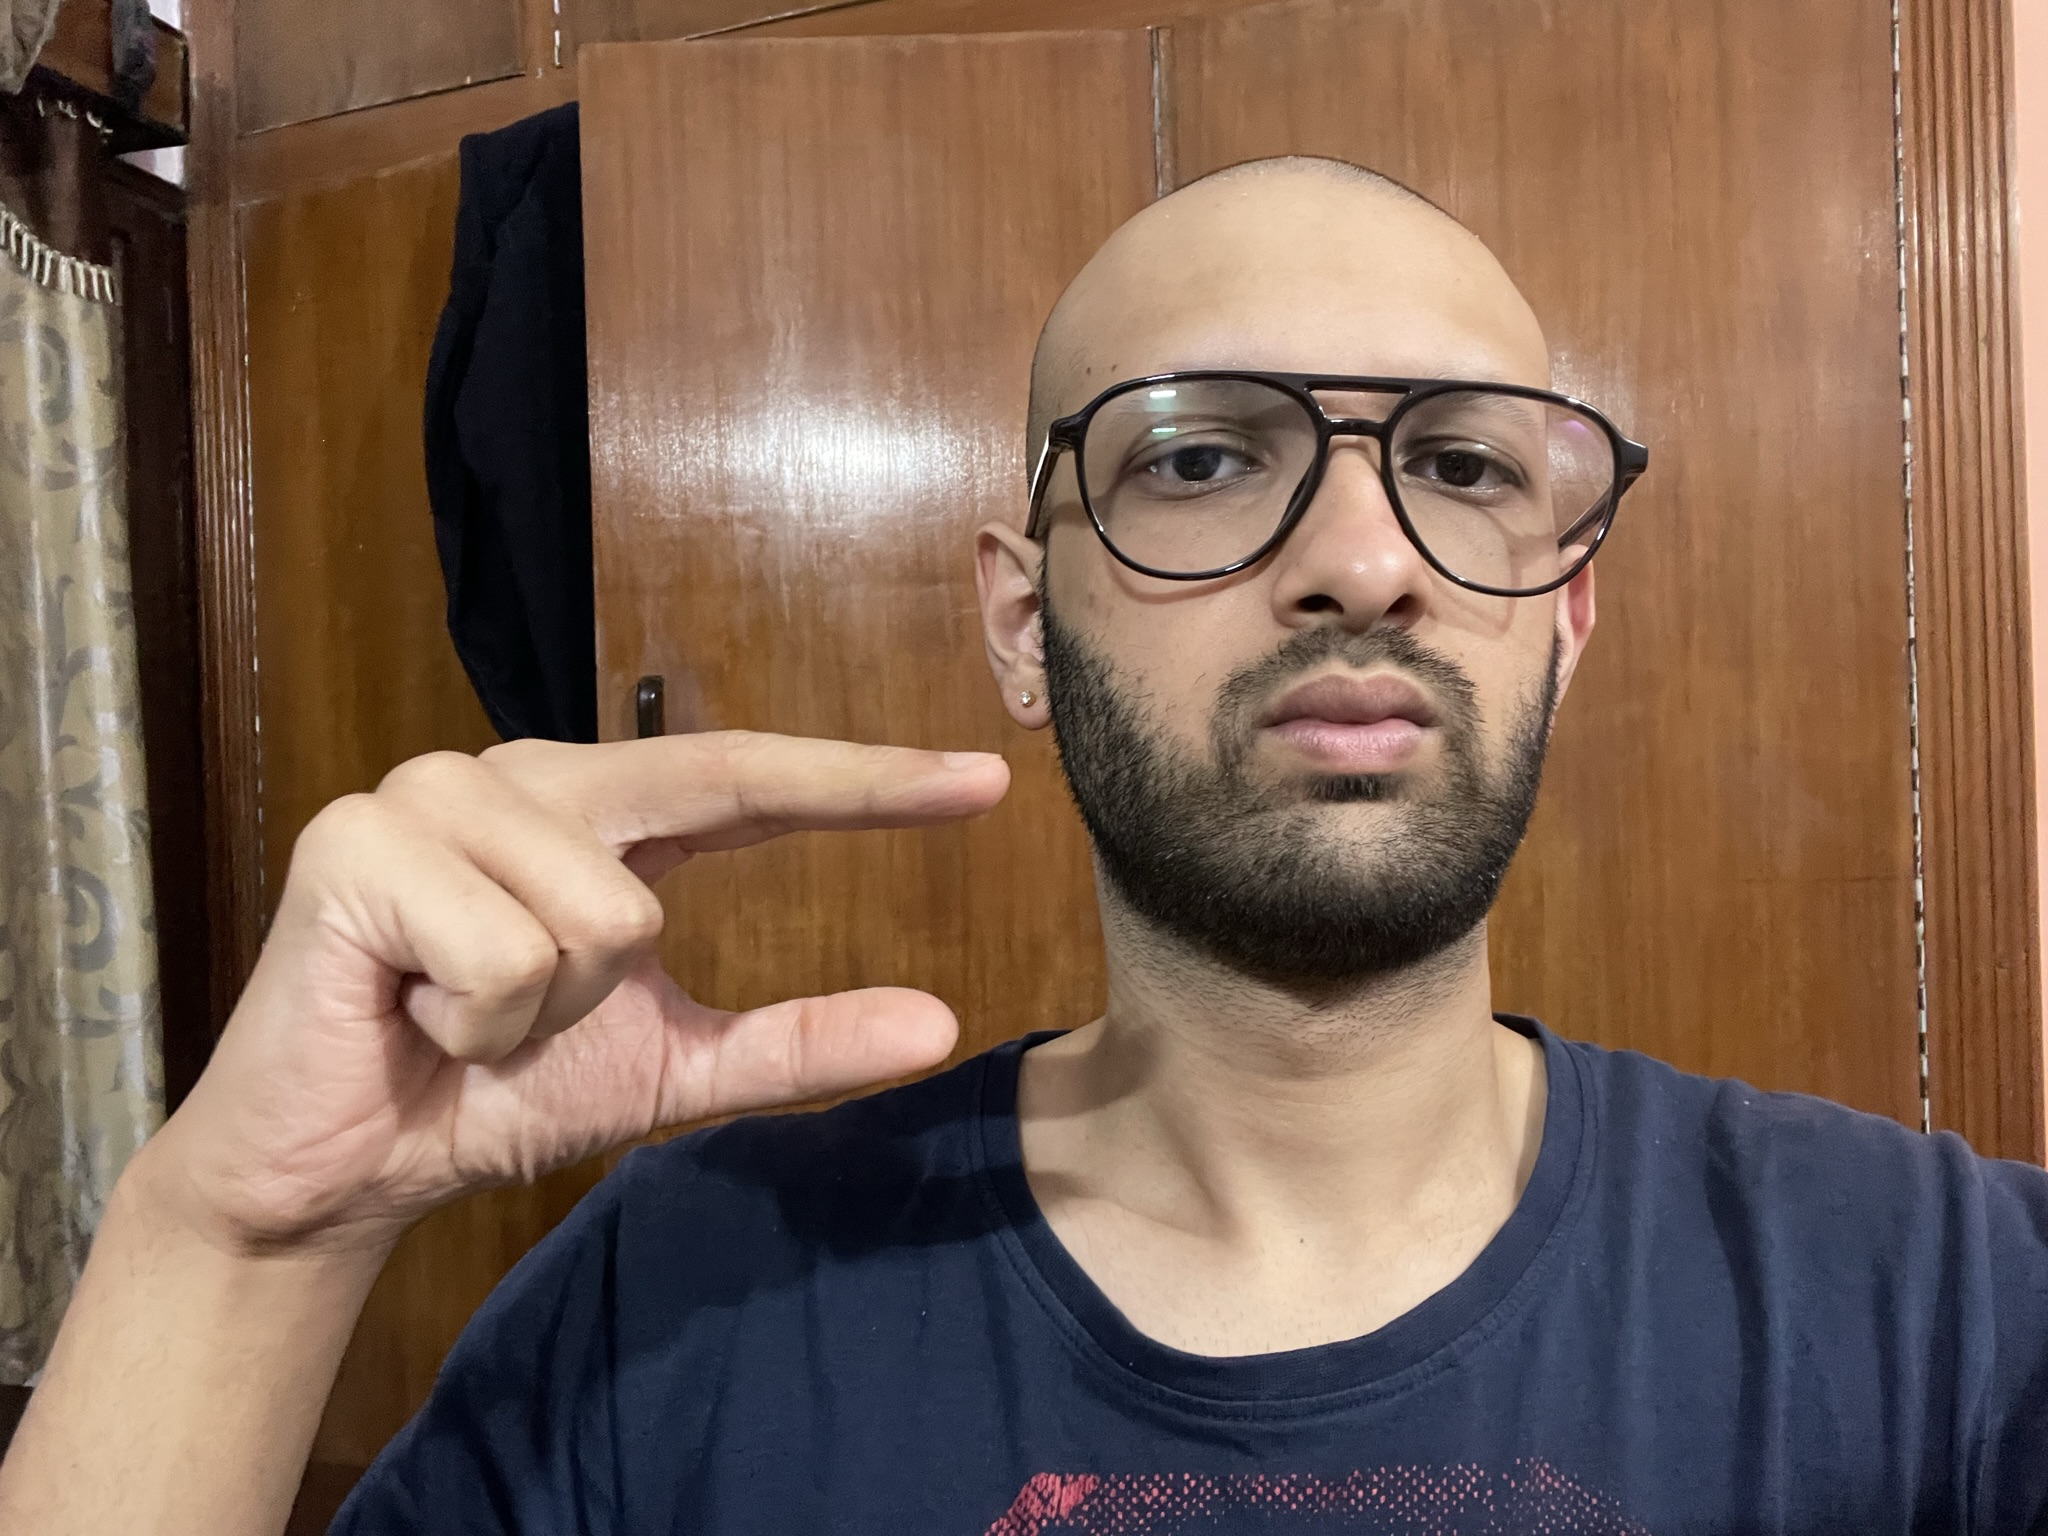No: (161, 724, 1018, 1233)
